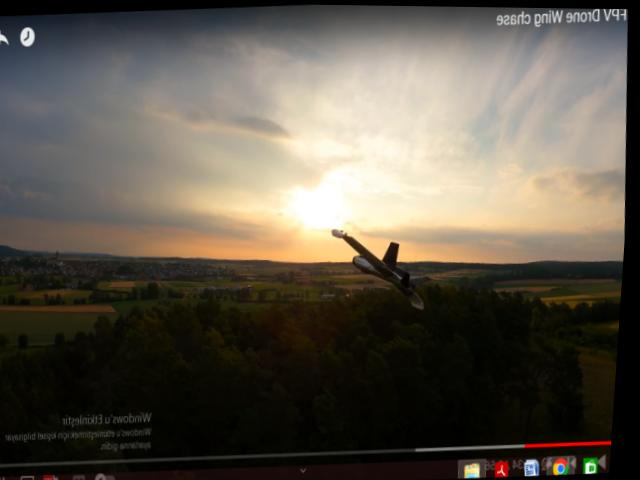plane: (330, 223, 439, 319)
